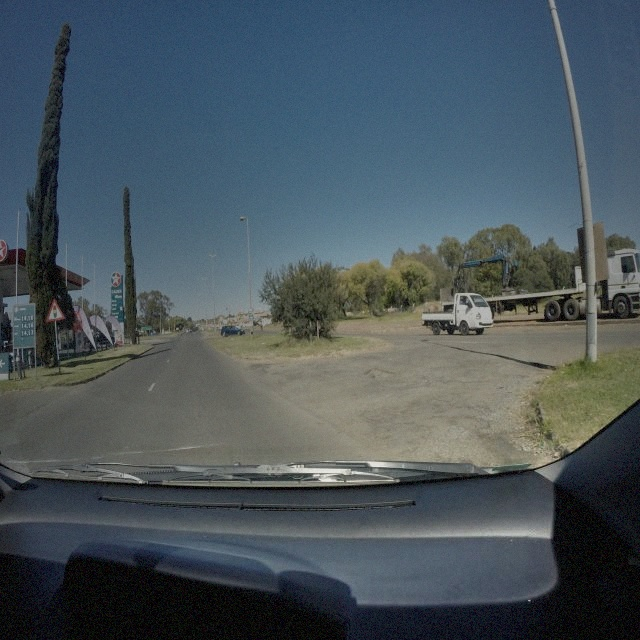pothole: (367, 366, 395, 380)
